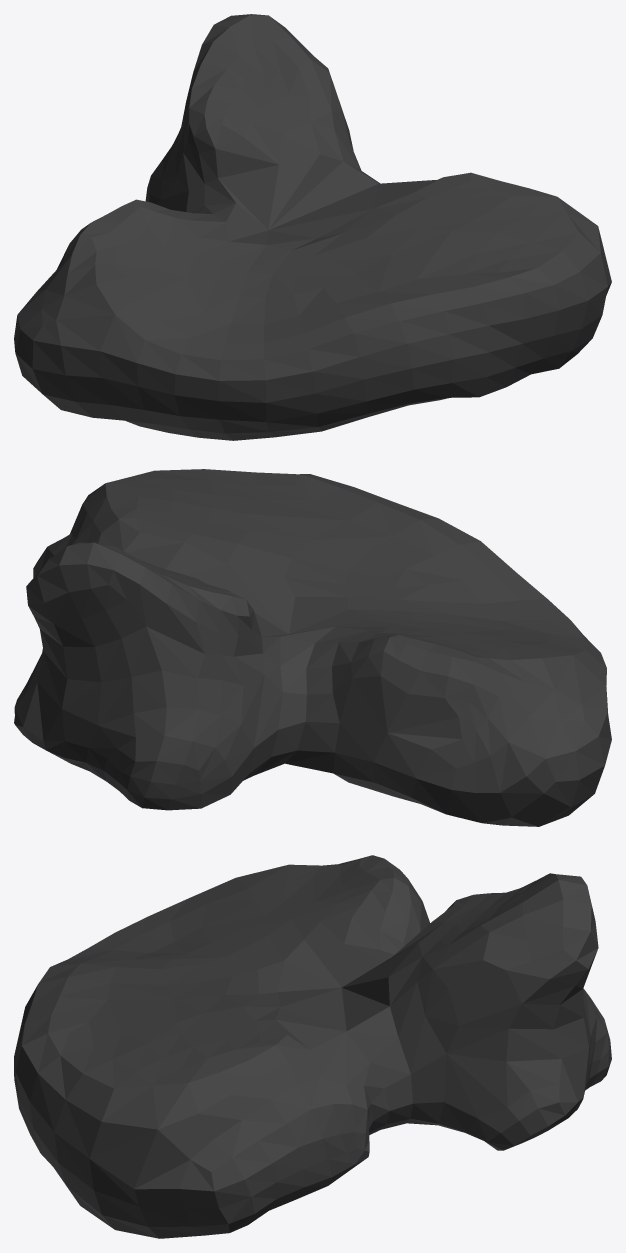
Rendered from Third_tarsal_L.glb.
3 views of the same model, one above another, from view 1: azimuth 30°, elevation 25°; view 2: azimuth 150°, elevation 25°; view 3: azimuth 270°, elevation 25° (orthographic). The views are drawn at different scales.
Parts seen in each view (by area): view 1: Third_tarsal_L; view 2: Third_tarsal_L; view 3: Third_tarsal_L.
Part boxes in pixels (bbox=[...]): Third_tarsal_L: bbox=[14, 14, 611, 440]; Third_tarsal_L: bbox=[14, 469, 611, 826]; Third_tarsal_L: bbox=[14, 855, 611, 1238].
Size of the model in its own units: 0.0798 by 0.0373 by 0.0676.
Materials: 1 (1 with a texture image).
